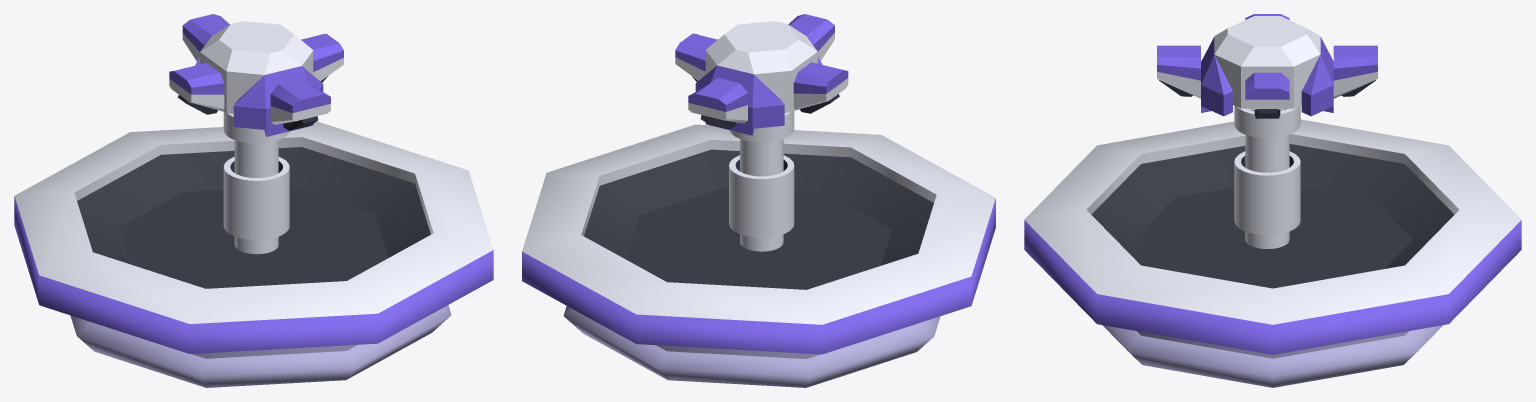
Rendered from foutain.glb.
The picture shows the model from 3 angles, left to right: view 1: azimuth 30°, elevation 25°; view 2: azimuth 150°, elevation 25°; view 3: azimuth 270°, elevation 25°; orthographic projection.
Visible parts, largest first — view 1: engine_turbineRound, turbine_flaps, turbine_ring% (×3), hull_cockpitGlass (×4); view 2: engine_turbineRound, turbine_flaps, turbine_ring% (×3), hull_cockpitGlass (×4); view 3: engine_turbineRound, turbine_flaps, turbine_ring% (×3), hull_cockpitGlass (×3).
Boxes of the visible parts, x1,y1,x2,y2 form: engine_turbineRound: [14, 121, 493, 387]; turbine_flaps: [195, 21, 323, 136]; turbine_ring% (×3): [223, 112, 289, 254]; hull_cockpitGlass (×4): [169, 14, 343, 130]; engine_turbineRound: [522, 124, 995, 387]; turbine_flaps: [695, 21, 822, 135]; turbine_ring% (×3): [729, 111, 794, 251]; hull_cockpitGlass (×4): [675, 14, 848, 129]; engine_turbineRound: [1024, 119, 1521, 387]; turbine_flaps: [1201, 16, 1333, 116]; turbine_ring% (×3): [1234, 106, 1300, 248]; hull_cockpitGlass (×3): [1157, 45, 1377, 118].
Bounding box in the file's own units: 4.5 × 2.78 × 4.5.
